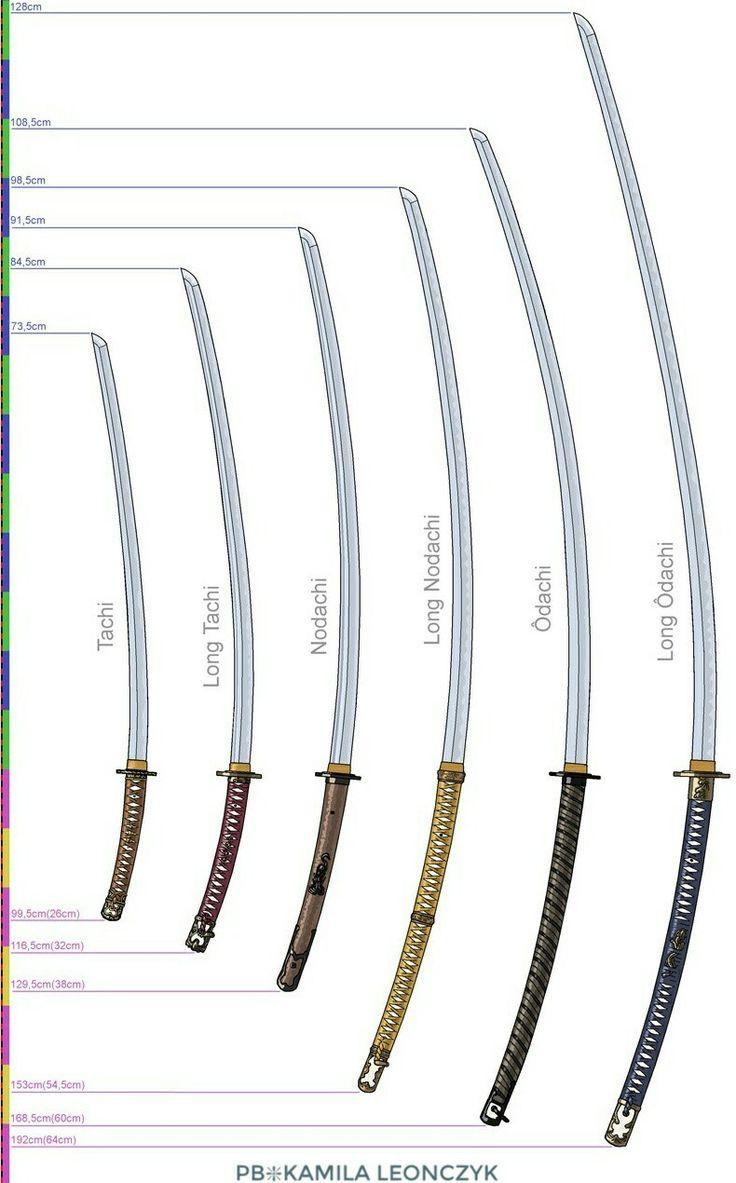espada: (553, 10, 736, 1150), (456, 125, 588, 1130), (390, 178, 490, 1110), (168, 255, 260, 948), (282, 215, 355, 992), (68, 326, 162, 918)
